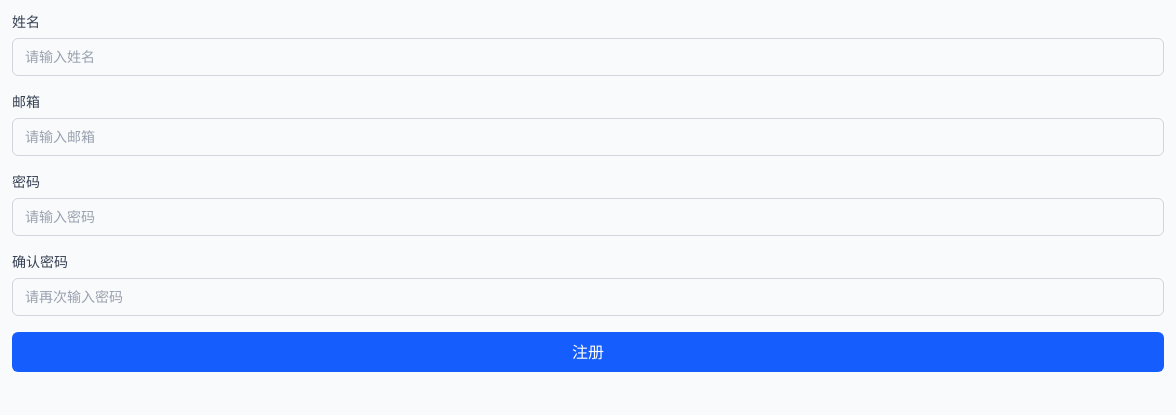
Test: RegisterForm › 密码不包含大写字母应显示验证提示
Type "测试用户" into the field labelled "姓名" at (588, 57), box [12,38,1164,76]
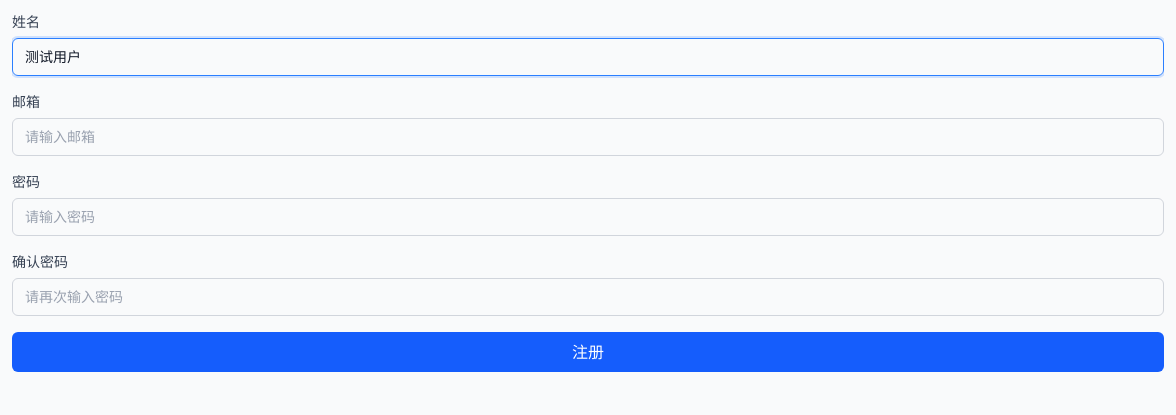
Type "test@example.com" into the field labelled "邮箱" at (588, 137), box [12,118,1164,156]
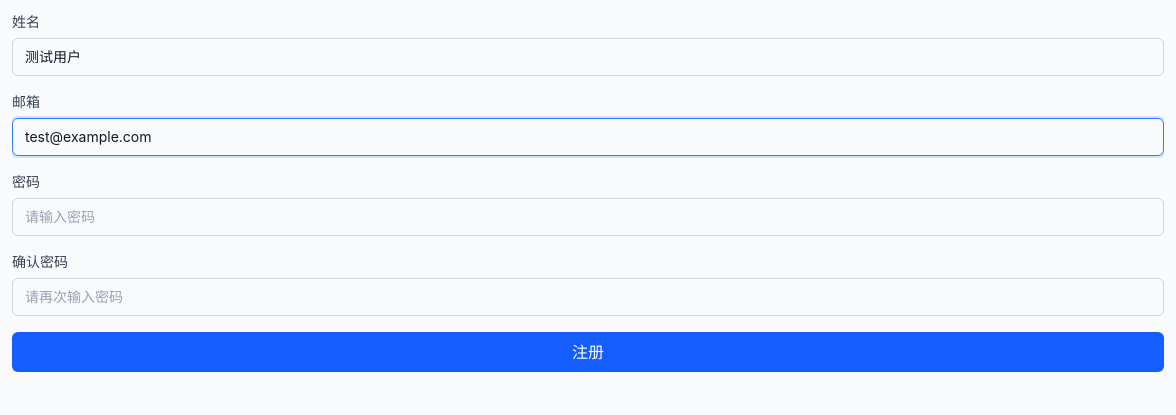
Type "password1" into the password field labelled "密码" at (588, 217), box [12,198,1164,236]
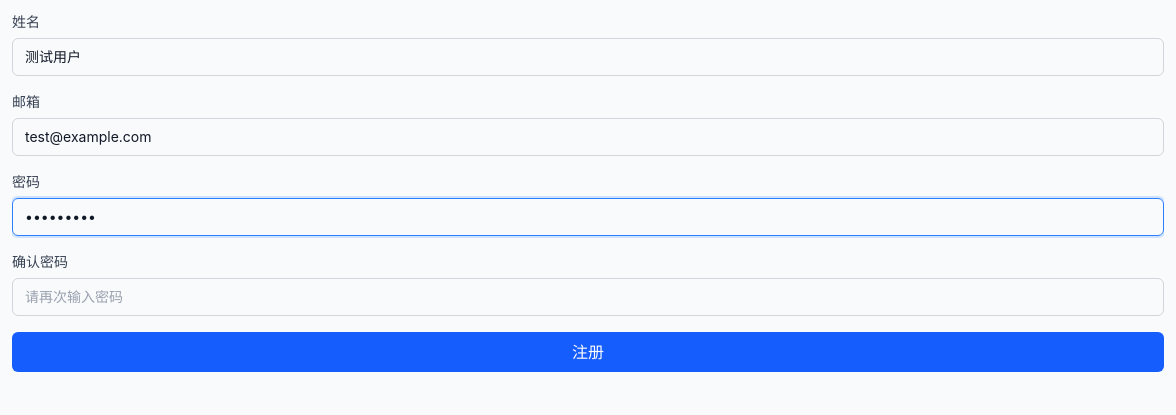
Type "password1" into the password field labelled "确认密码" at (588, 297), box [12,278,1164,316]
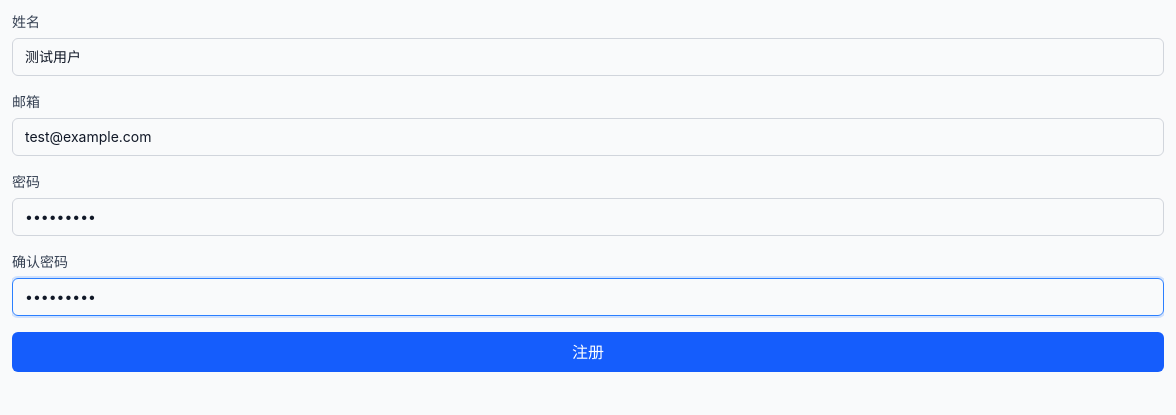
Click the button "注册" at (588, 352), box [12,332,1164,372]
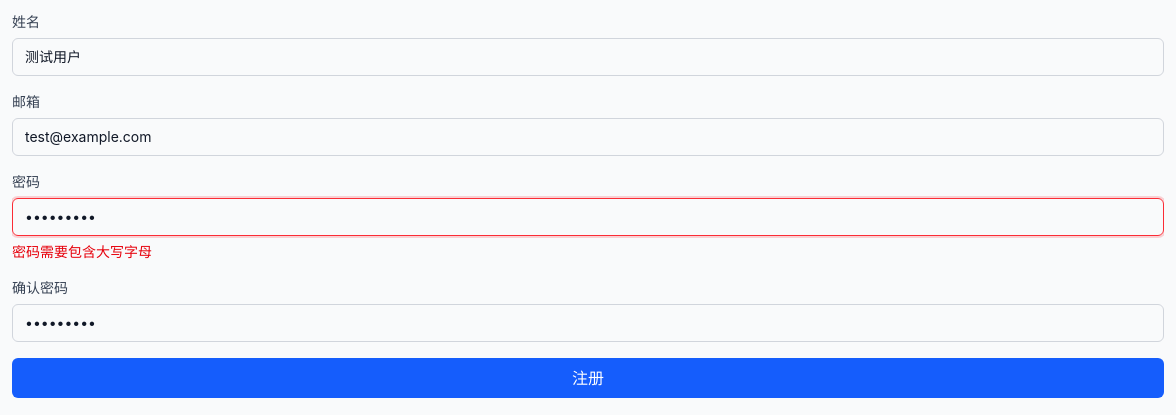
Now the text "密码需要包含大写字母" is shown, box [12,243,152,260]
